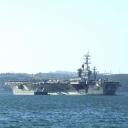Portanaves: (6, 51, 124, 97)
